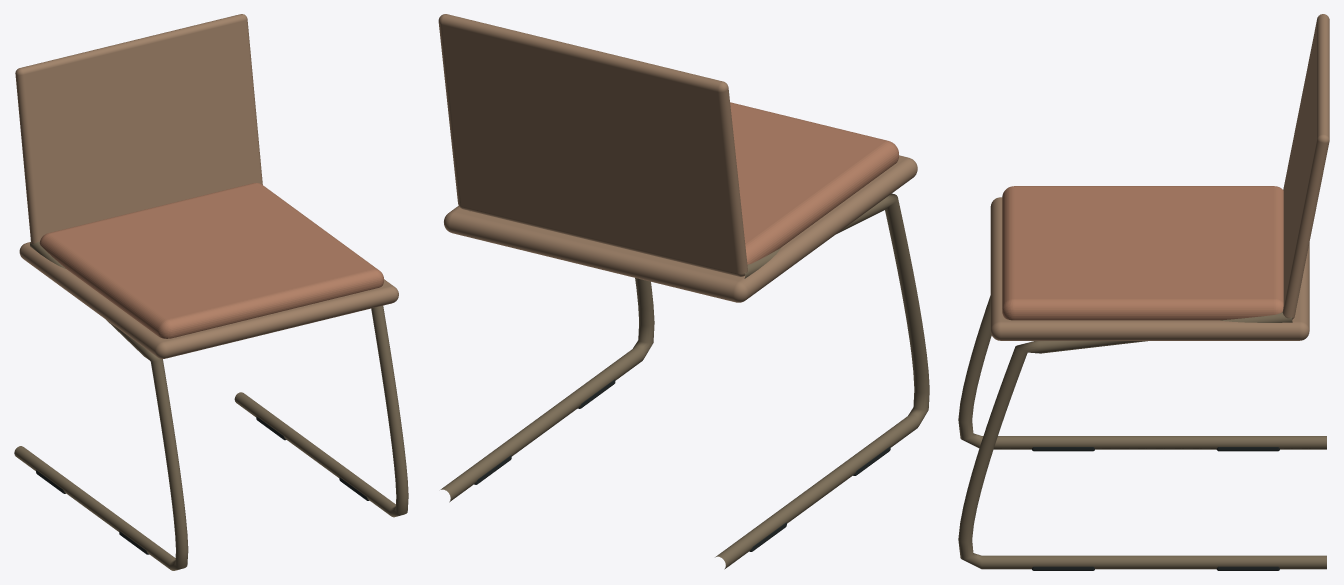
The model's file is atelier-sidechair-clay.glb.
3 views of the same model, side by side, from view 1: azimuth 30°, elevation 25°; view 2: azimuth 150°, elevation 25°; view 3: azimuth 270°, elevation 25° (orthographic). The views are drawn at different scales.
Parts seen in each view (by area): view 1: mesh_9, mesh_8, mesh_7, mesh_0, mesh_3; view 2: mesh_9, mesh_8, mesh_7, mesh_0, mesh_3; view 3: mesh_8, mesh_3, mesh_7, mesh_9, mesh_0.
Part boxes in pixels (bbox=[...]): mesh_9: bbox=[15, 14, 262, 243]; mesh_8: bbox=[39, 183, 383, 338]; mesh_7: bbox=[19, 242, 398, 358]; mesh_0: bbox=[14, 241, 188, 570]; mesh_3: bbox=[234, 305, 408, 517]; mesh_9: bbox=[438, 14, 747, 276]; mesh_8: bbox=[730, 102, 898, 264]; mesh_7: bbox=[444, 155, 917, 302]; mesh_0: bbox=[715, 193, 929, 569]; mesh_3: bbox=[440, 278, 654, 502]; mesh_8: bbox=[1002, 186, 1283, 320]; mesh_3: bbox=[958, 312, 1326, 569]; mesh_7: bbox=[990, 197, 1309, 340]; mesh_9: bbox=[1282, 14, 1329, 319]; mesh_0: bbox=[958, 295, 1326, 449].
Size of the model in its own units: 0.5076 by 0.7797 by 0.6039.
